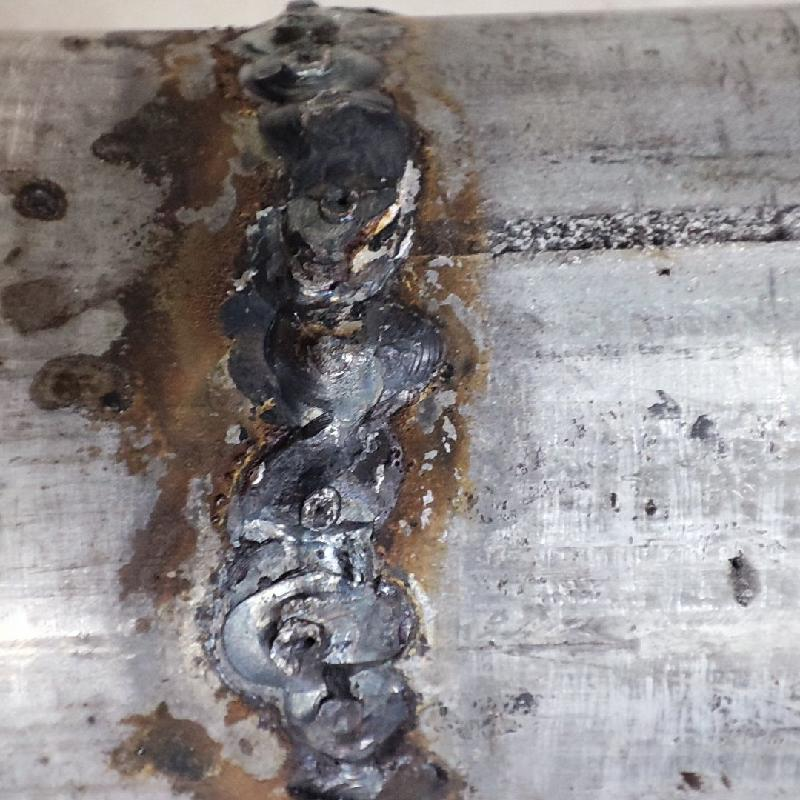Surface_pores: (271, 614, 324, 660), (318, 184, 370, 225), (301, 482, 336, 529)
wrong_size: (224, 2, 437, 793)
